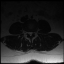CCS_normal: (29, 30, 31, 37)
LFS_stenosis: (33, 29, 35, 35)
LLS_normal: (31, 30, 33, 36)
RFS_normal: (25, 29, 27, 35)
RLS_normal: (27, 30, 29, 35)
